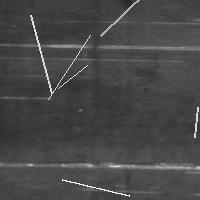scratches: (43, 30, 95, 104), (26, 158, 199, 176), (1, 37, 196, 52), (26, 10, 57, 98), (96, 0, 153, 40), (57, 174, 134, 200), (53, 60, 92, 93), (189, 102, 200, 142)
